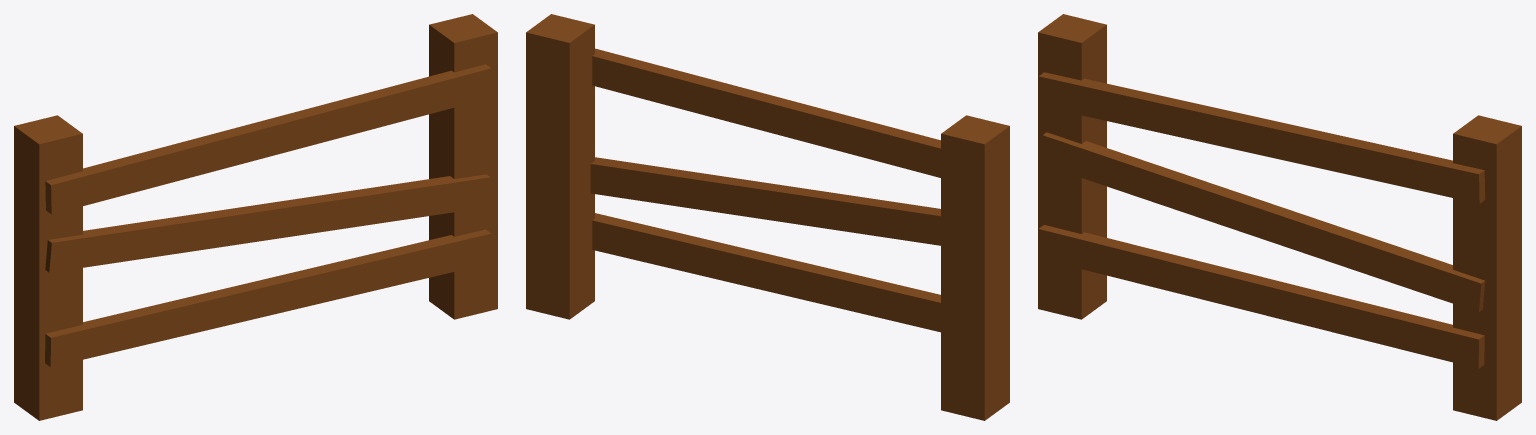
Rendered from plot.fbx.
3 renders of one model, left to right at view 1: azimuth 30°, elevation 25°; view 2: azimuth 150°, elevation 25°; view 3: azimuth 330°, elevation 25°, orthographic.
Parts seen in each view (by area): view 1: plot; view 2: plot; view 3: plot.
Boxes of the visible parts, box(x1,y1,x2,y2) form: plot: box(14, 14, 497, 420); plot: box(526, 14, 1009, 420); plot: box(1038, 14, 1521, 420).
Bounding box in the file's own units: 411 × 237 × 47.92.
